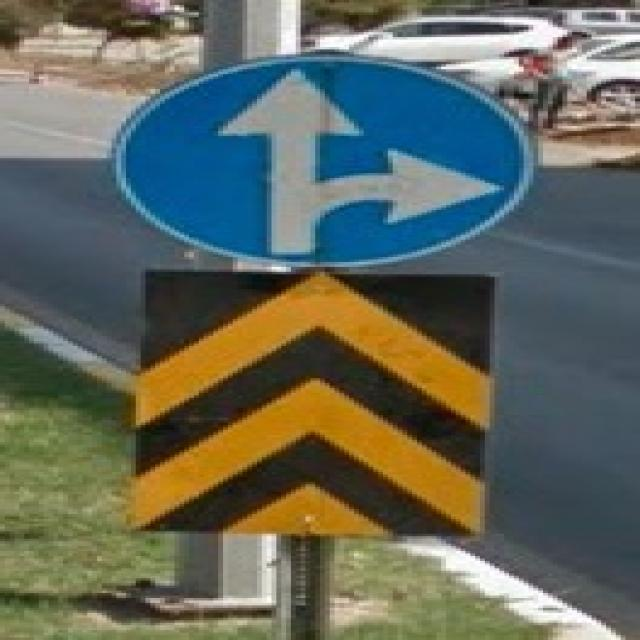Straight or Right: (118, 58, 540, 260)
